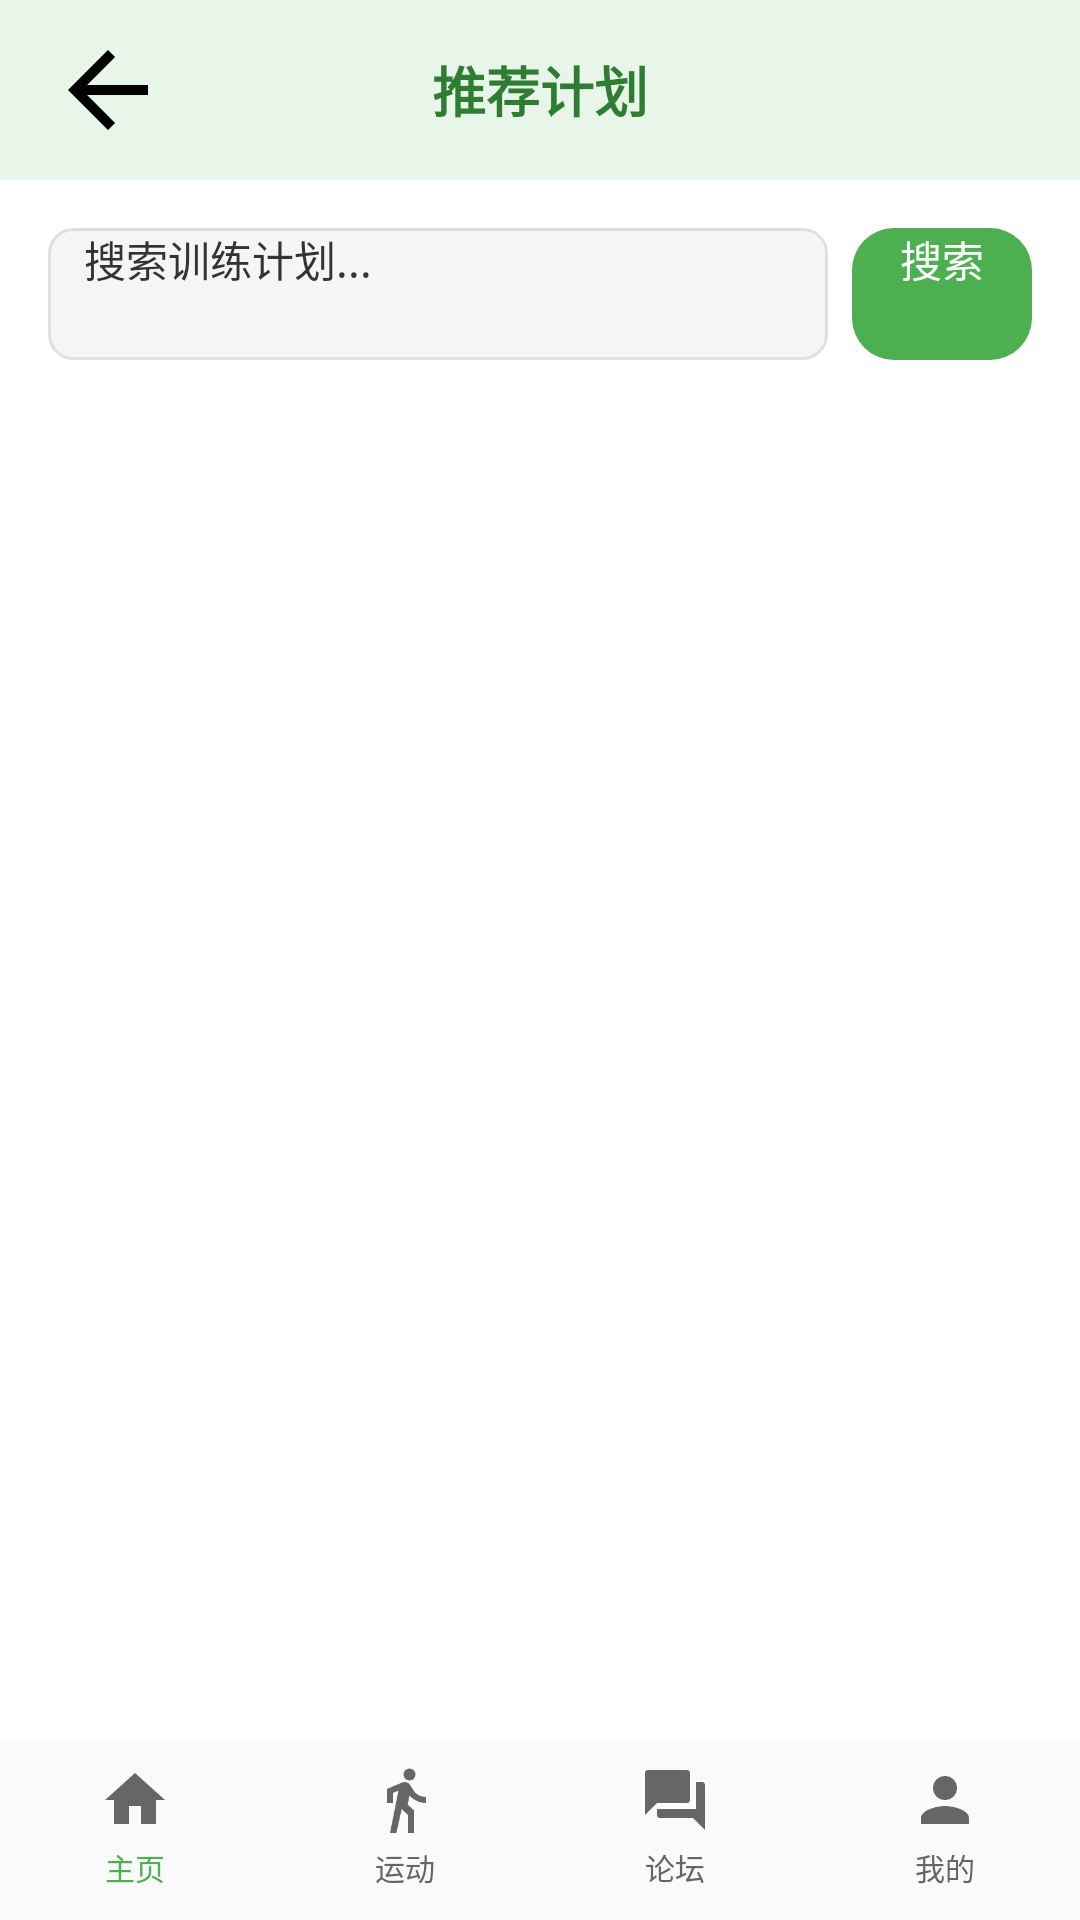

Screen size 1080×1920. Icon name, then its box in pixels as (x1, y1, x2, y2):
arrow back: (68, 50, 148, 130)
